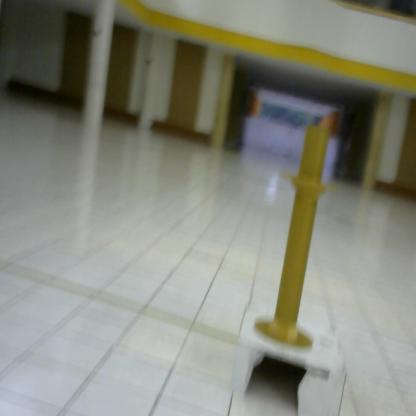pole: (248, 119, 347, 354)
